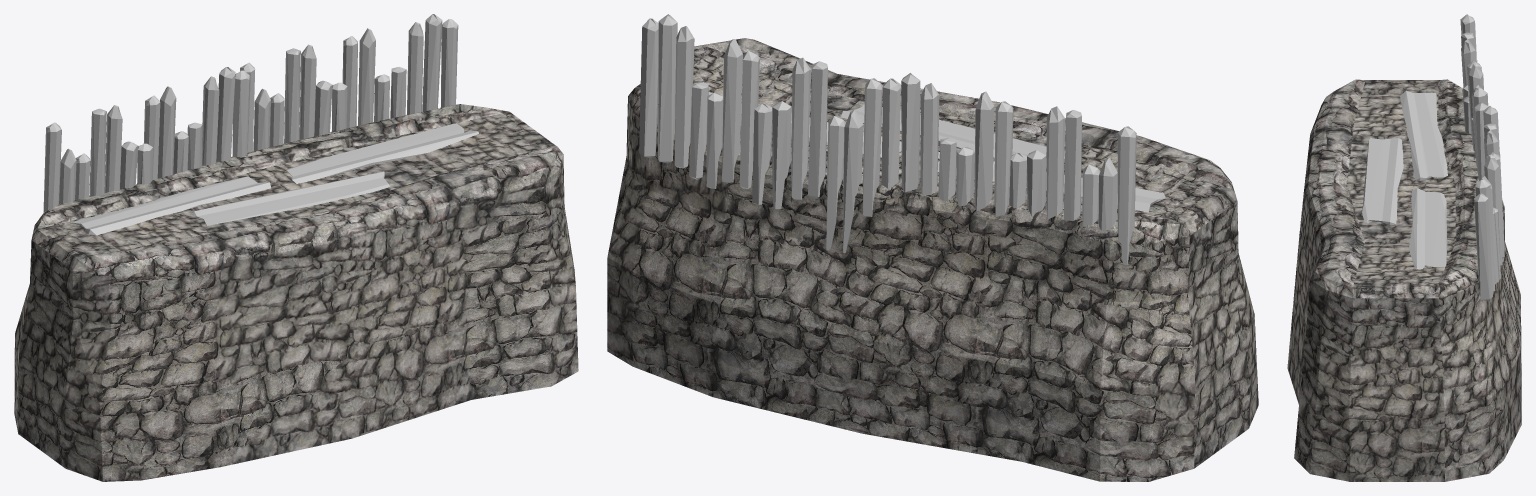
The model's file is StoneWall_1_LOD2.fbx.
The picture shows the model from 3 angles, left to right: view 1: azimuth 30°, elevation 25°; view 2: azimuth 150°, elevation 25°; view 3: azimuth 270°, elevation 25°; orthographic projection. The views are drawn at different scales.
Parts seen in each view (by area): view 1: Stone, Wood; view 2: Stone, Wood; view 3: Stone, Wood.
Boxes of the visible parts, bbox=[...] form: Stone: bbox=[14, 104, 578, 481]; Wood: bbox=[43, 14, 478, 235]; Stone: bbox=[607, 38, 1258, 481]; Wood: bbox=[639, 14, 1165, 265]; Stone: bbox=[1287, 79, 1521, 481]; Wood: bbox=[1362, 14, 1504, 300].
Size of the model in its own units: 1417 by 629 by 809.
